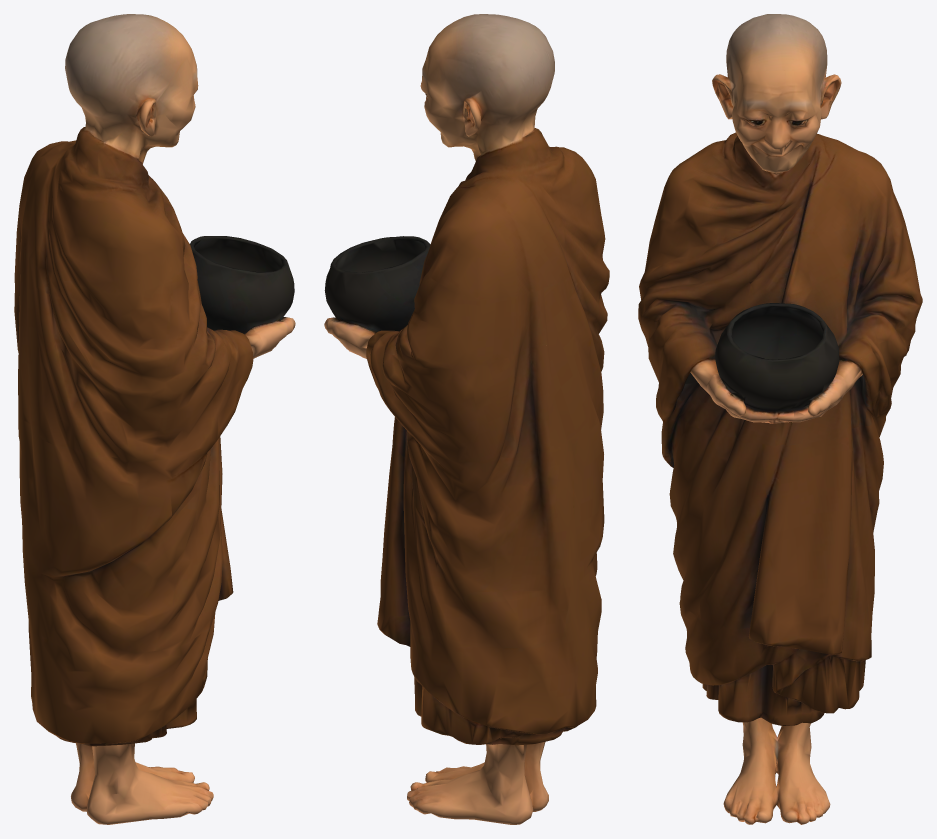
Rendered from alms-elder.glb.
The picture shows the model from 3 angles, left to right: view 1: azimuth 30°, elevation 25°; view 2: azimuth 150°, elevation 25°; view 3: azimuth 270°, elevation 25°; orthographic projection. The views are drawn at different scales.
Parts seen in each view (by area): view 1: tripo_node_b5de8ba7-ed03-427a-bf84-d70dc23b7dec; view 2: tripo_node_b5de8ba7-ed03-427a-bf84-d70dc23b7dec; view 3: tripo_node_b5de8ba7-ed03-427a-bf84-d70dc23b7dec.
Boxes of the visible parts, box(x1,y1,x2,y2) form: tripo_node_b5de8ba7-ed03-427a-bf84-d70dc23b7dec: box(14, 14, 295, 824); tripo_node_b5de8ba7-ed03-427a-bf84-d70dc23b7dec: box(324, 14, 609, 824); tripo_node_b5de8ba7-ed03-427a-bf84-d70dc23b7dec: box(638, 14, 922, 824).
Bounding box in the file's own units: 0.3321 × 0.9996 × 0.3336.
Materials: 1 (1 with a texture image).
